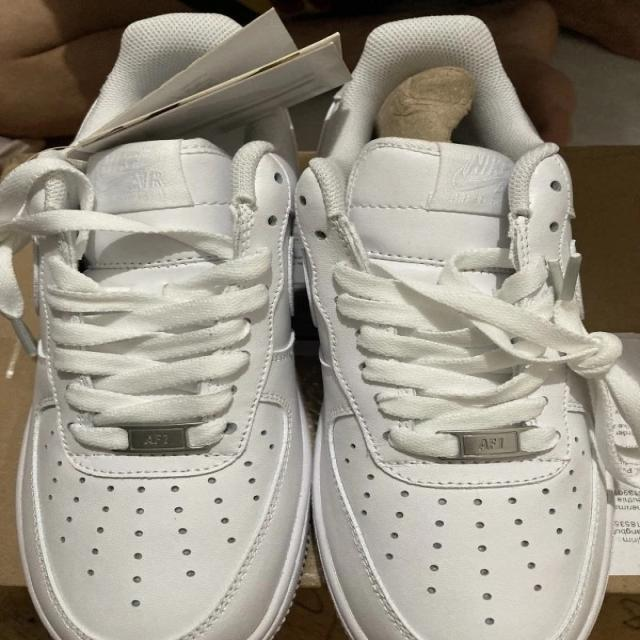nike original air force: (293, 16, 640, 640), (15, 0, 306, 640)
